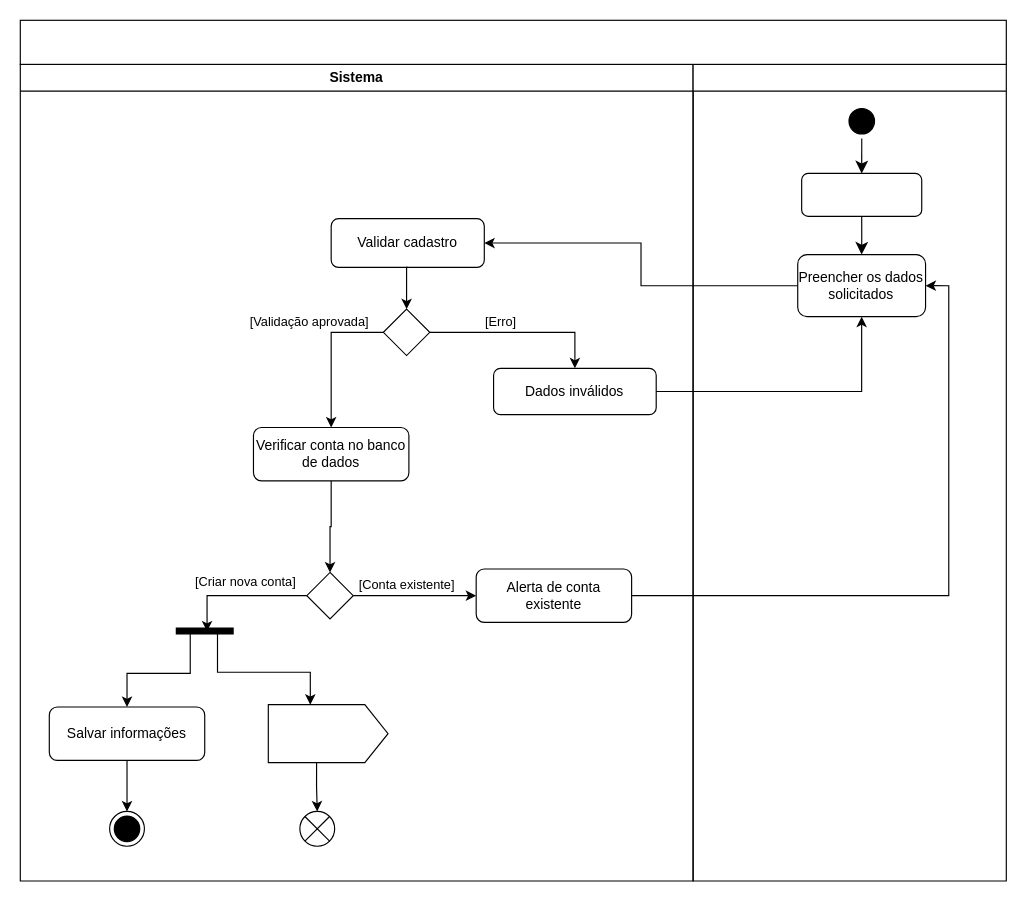
The diagram is 1027 pixels wide and 901 high, and some of its shapes have lost their labels. Each missing label, with the box of its shape:
Acessar tela de cadastro: (801, 172, 922, 216)
Diagrama de Atividades: Cadastro de Usuário/Cliente e Artesão: (19, 19, 1006, 64)
E-mail de confirmação: (267, 704, 388, 763)
Usuário: (692, 63, 1006, 881)
